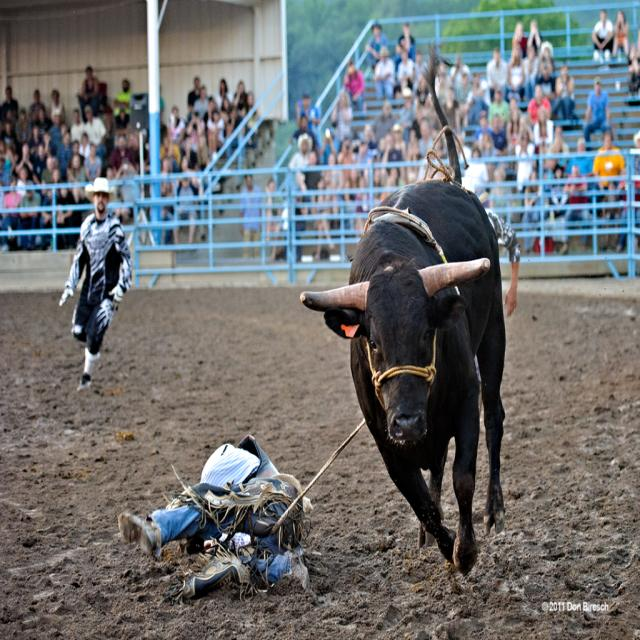Deer: (302, 174, 504, 575)
